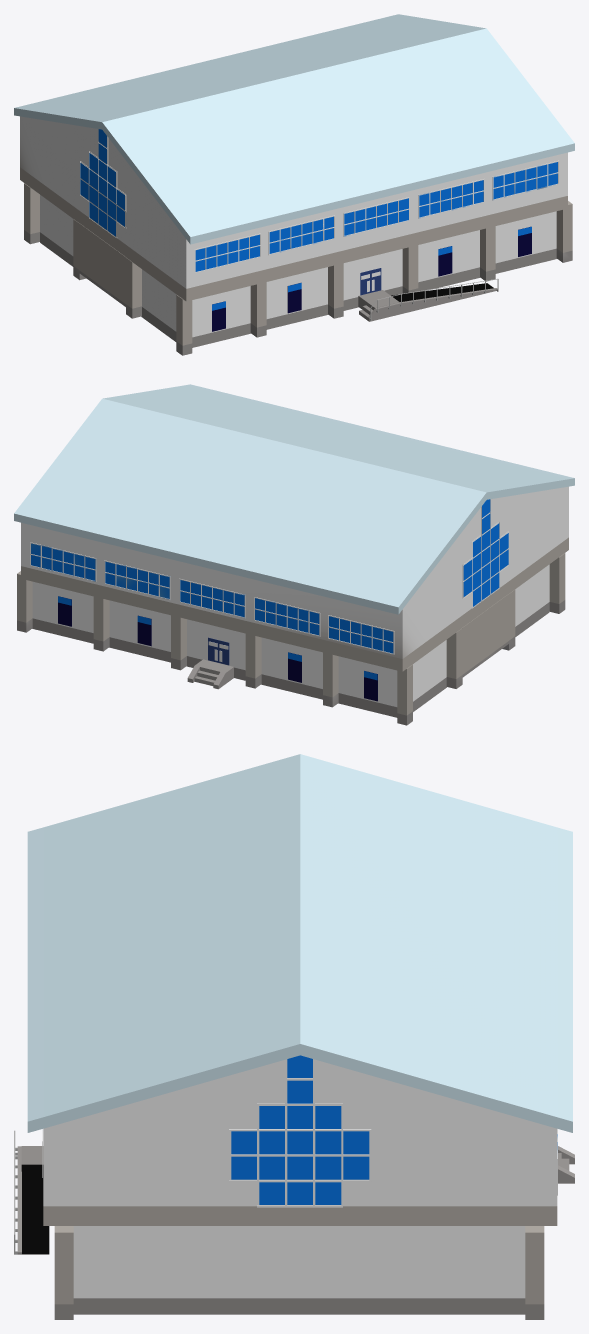
Rendered from taiikukan.glb.
The picture shows the model from 3 angles, top to bottom: view 1: azimuth 30°, elevation 25°; view 2: azimuth 150°, elevation 25°; view 3: azimuth 270°, elevation 25°; orthographic projection. The views are drawn at different scales.
Visible parts, largest first — view 1: 体育館屋根, 体育館本体, 体育館土台, 体育館窓_1, 体育館・支柱, 体育館本体_2, 体育館特殊窓, 体育館・出っ張り, 体育館横の青いところ.001, 体育館・真ん中出入り口土台, 体育館・真ん中出入り口手すり土台, 体育館特殊窓枠; view 2: 体育館屋根, 体育館本体, 体育館土台, 体育館窓_2, 体育館・支柱, 体育館本体_2, 体育館特殊窓, 体育館・出っ張り, 体育館横の青いところ.002, 体育館・真ん中出入り口・反対側・階段, 体育館特殊窓枠; view 3: 体育館屋根, 体育館本体, 体育館土台, 体育館本体_2, 体育館特殊窓.001, 体育館・支柱, 体育館特殊窓枠.001, 体育館・真ん中出入り口土台.
Boxes of the visible parts, x1,y1,x2,y2 form: 体育館屋根: [14, 14, 574, 244]; 体育館本体: [20, 116, 567, 301]; 体育館土台: [40, 195, 556, 347]; 体育館窓_1: [194, 160, 558, 273]; 体育館・支柱: [24, 183, 572, 355]; 体育館本体_2: [23, 117, 180, 232]; 体育館特殊窓: [80, 129, 124, 236]; 体育館・出っ張り: [79, 223, 125, 306]; 体育館横の青いところ.001: [212, 226, 531, 331]; 体育館・真ん中出入り口土台: [358, 283, 494, 320]; 体育館・真ん中出入り口手すり土台: [368, 288, 497, 321]; 体育館特殊窓枠: [80, 137, 126, 238]; 体育館屋根: [14, 384, 574, 614]; 体育館本体: [21, 486, 568, 671]; 体育館土台: [32, 564, 549, 717]; 体育館窓_2: [30, 542, 394, 654]; 体育館・支柱: [17, 553, 565, 725]; 体育館本体_2: [408, 487, 565, 602]; 体育館特殊窓: [463, 499, 508, 606]; 体育館・出っ張り: [462, 594, 508, 677]; 体育館横の青いところ.002: [58, 596, 377, 701]; 体育館・真ん中出入り口・反対側・階段: [187, 659, 233, 689]; 体育館特殊窓枠: [462, 499, 508, 608]; 体育館屋根: [27, 754, 572, 1132]; 体育館本体: [43, 1125, 557, 1225]; 体育館土台: [73, 1226, 525, 1314]; 体育館本体_2: [55, 1059, 545, 1125]; 体育館特殊窓.001: [231, 1055, 369, 1204]; 体育館・支柱: [54, 1226, 544, 1319]; 体育館特殊窓枠.001: [229, 1059, 371, 1207]; 体育館・真ん中出入り口土台: [21, 1146, 49, 1254].
Size of the model in its own units: 8.88 by 3.82 by 7.14.
29 materials, 27 textured.
